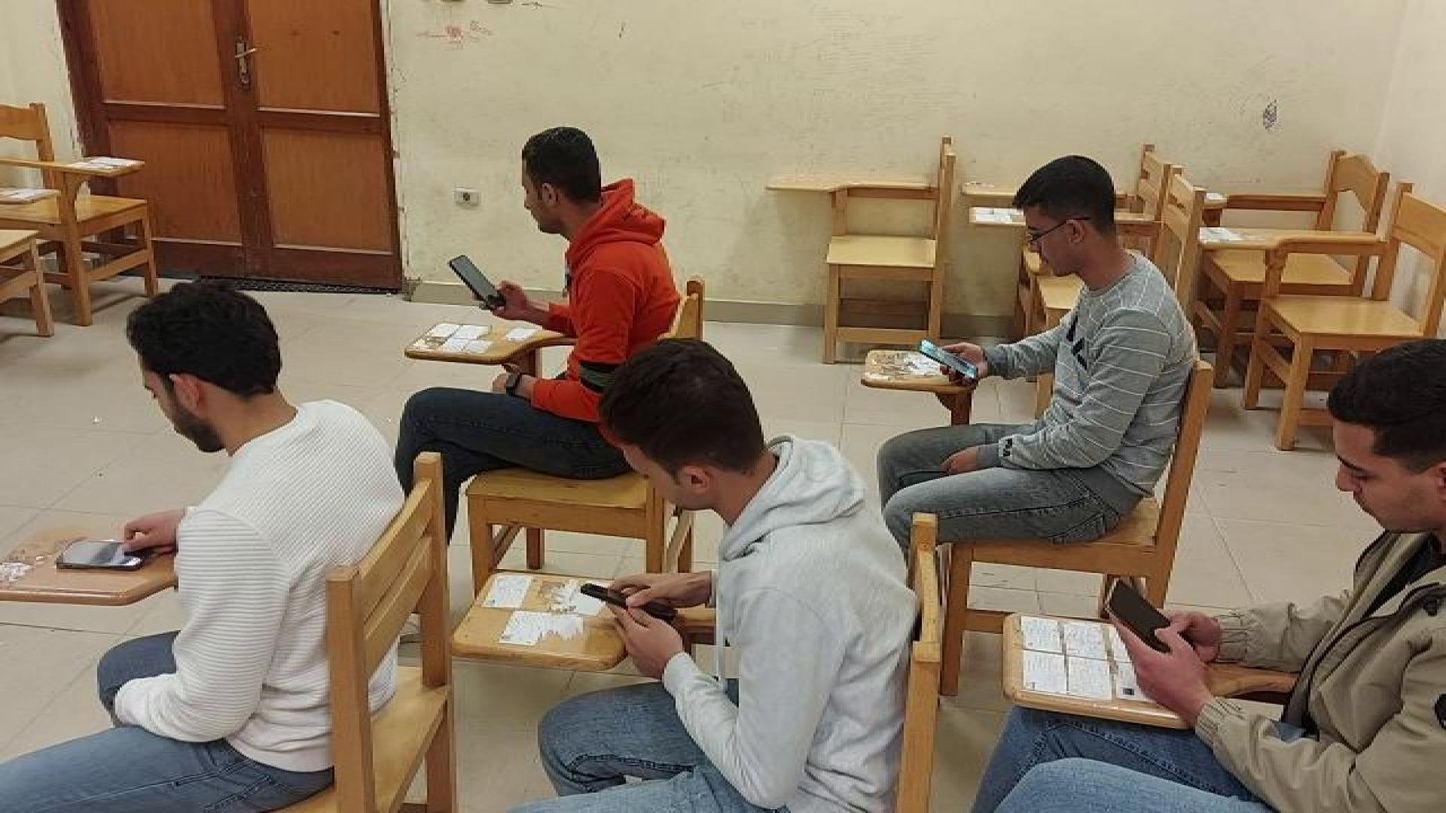phone: (1101, 575, 1203, 660), (578, 578, 676, 617), (447, 252, 506, 316), (52, 537, 149, 572), (916, 336, 979, 377)
